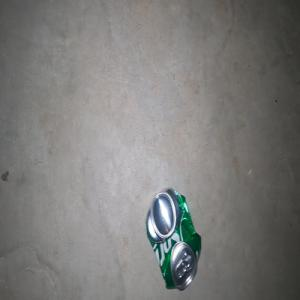SodaCan: (145, 187, 201, 290)
